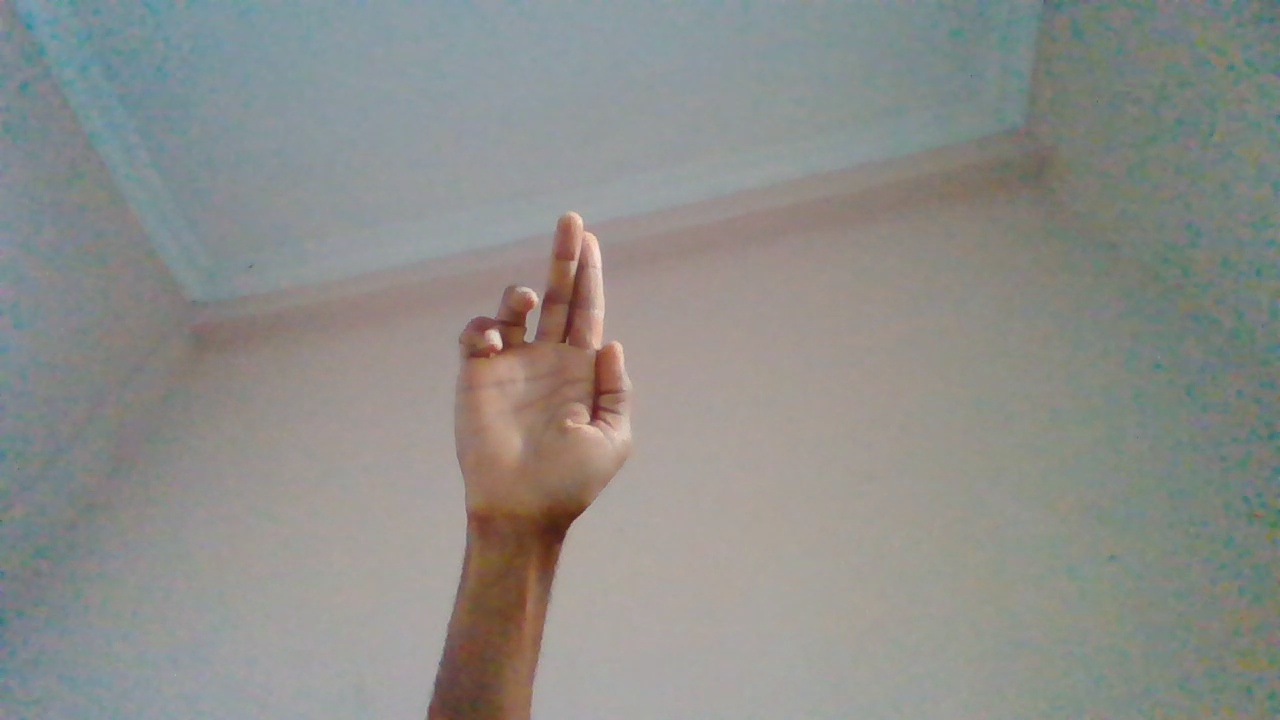gne: (456, 215, 640, 666)
